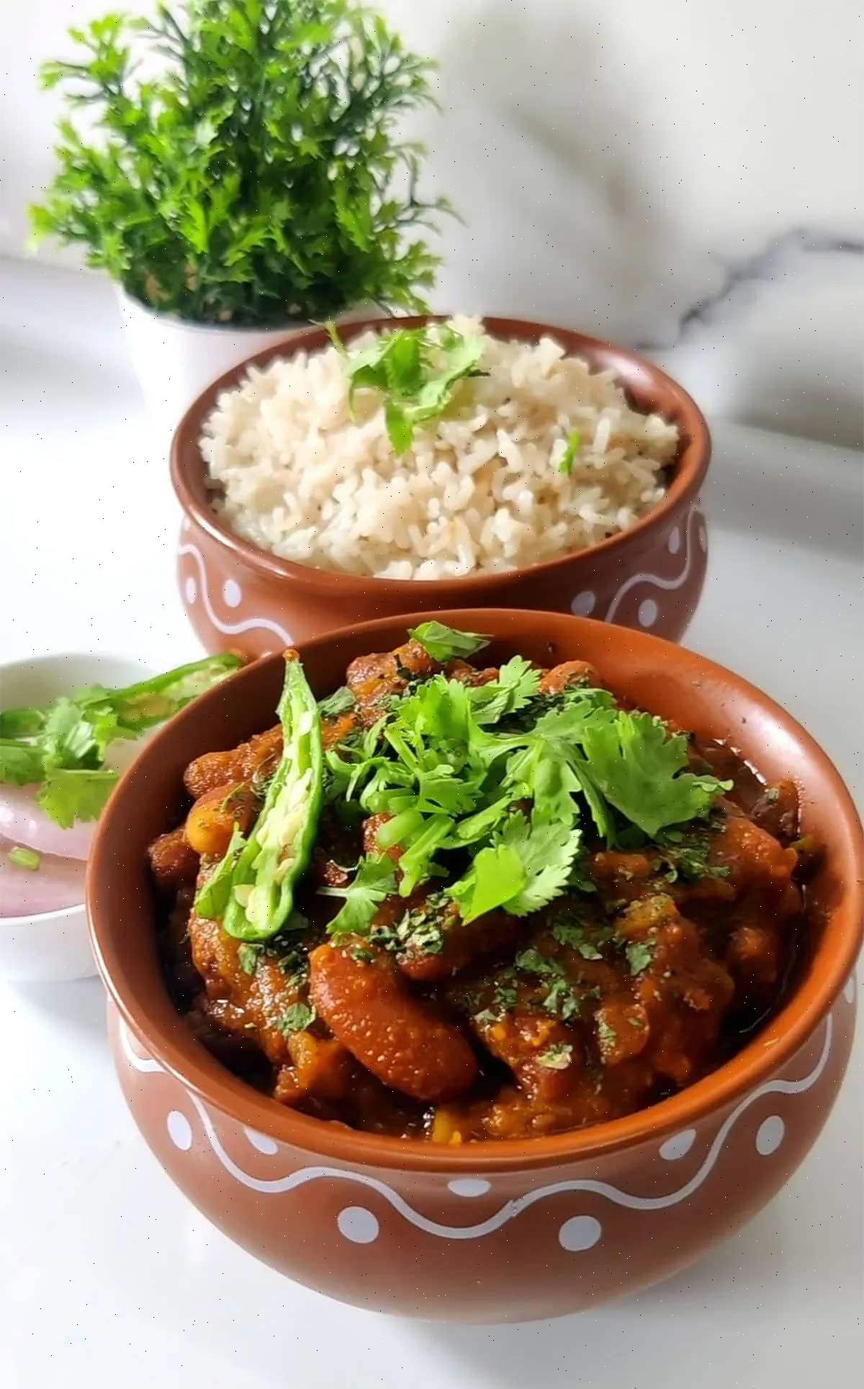rajma: (181, 681, 800, 1163)
rice: (239, 318, 668, 594), (210, 343, 646, 544)
